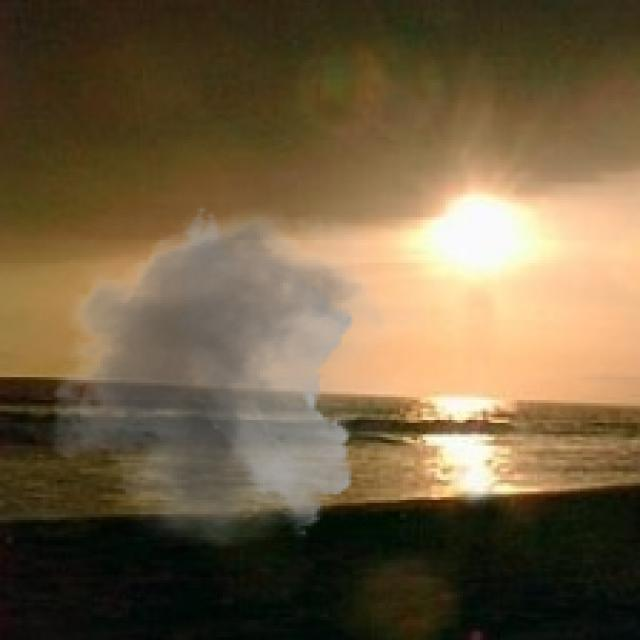smoke: (32, 194, 434, 549)
